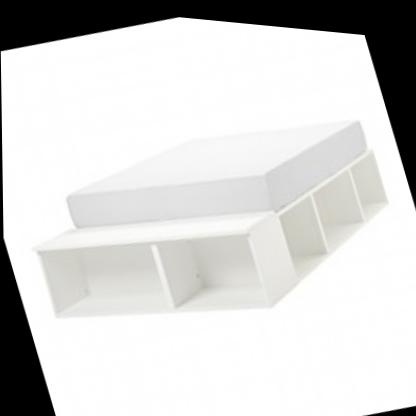Bed: (0, 34, 416, 393)
